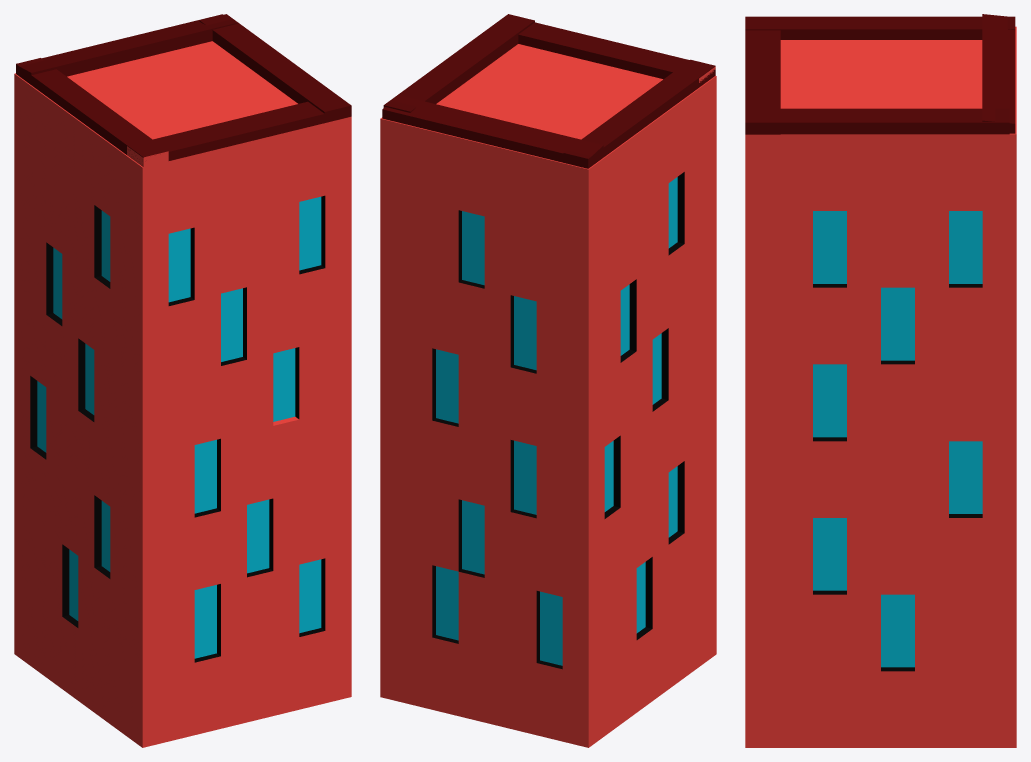
File: building 10 (pink).fbx
3 renders of one model, left to right at view 1: azimuth 30°, elevation 25°; view 2: azimuth 150°, elevation 25°; view 3: azimuth 270°, elevation 25°, orthographic. The views are drawn at different scales.
Parts seen in each view (by area): view 1: Cube; view 2: Cube; view 3: Cube.
Boxes of the visible parts, bbox=[...] form: Cube: bbox=[14, 14, 351, 747]; Cube: bbox=[380, 14, 716, 747]; Cube: bbox=[745, 14, 1016, 747].
Size of the model in its own units: 707 by 1916 by 752.
